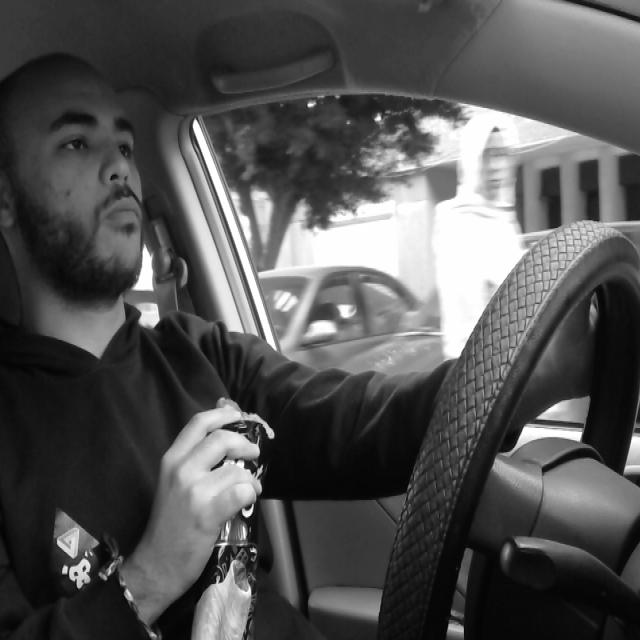eating: (194, 382, 276, 640)
